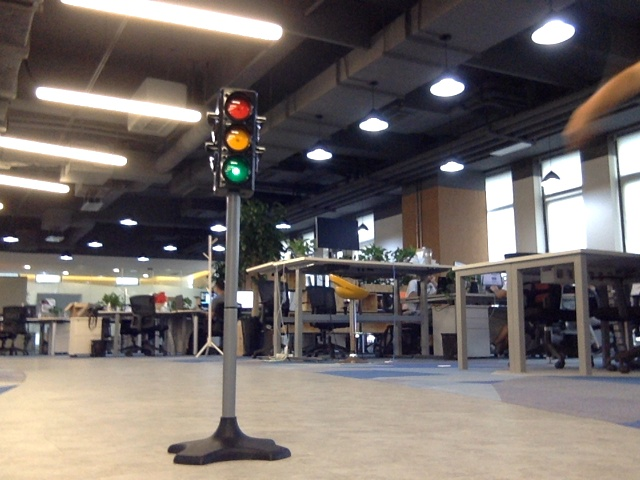green: (224, 92, 250, 185)
